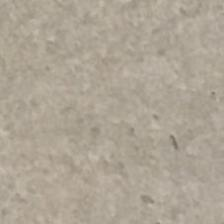Non_Crack: (15, 20, 224, 224)
